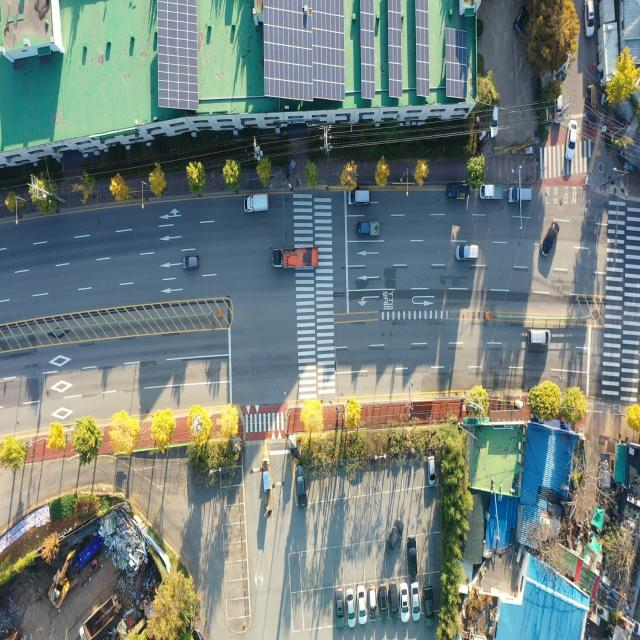car: (541, 220, 561, 260), (583, 0, 598, 39), (386, 518, 403, 552), (422, 582, 434, 630), (507, 185, 534, 206), (335, 585, 347, 632), (525, 328, 553, 348), (564, 119, 577, 162), (346, 188, 372, 208), (487, 100, 500, 140), (366, 580, 378, 621), (295, 463, 306, 507), (412, 577, 422, 625), (456, 242, 479, 262), (389, 578, 399, 624), (408, 534, 418, 578), (378, 578, 388, 622), (357, 582, 366, 630), (554, 81, 564, 123), (400, 579, 409, 625), (348, 582, 356, 628), (182, 252, 200, 272), (428, 451, 436, 486)
medium_truck: (77, 590, 122, 640), (271, 245, 318, 271)
small_truck: (244, 191, 269, 216), (478, 180, 505, 203), (444, 181, 472, 202), (356, 221, 383, 239), (586, 81, 596, 126)
